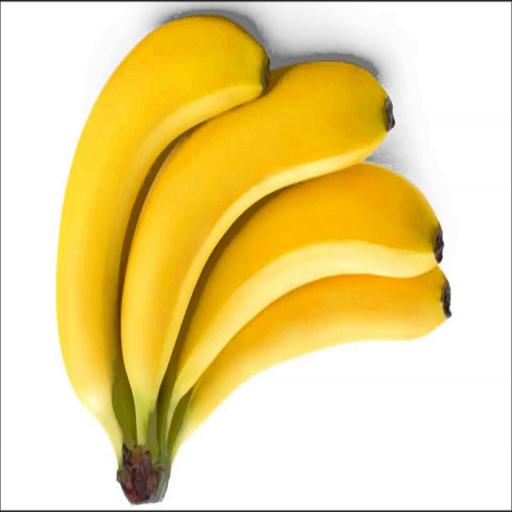banana: (121, 61, 394, 454), (57, 16, 268, 461), (159, 163, 443, 425), (168, 267, 451, 459)
